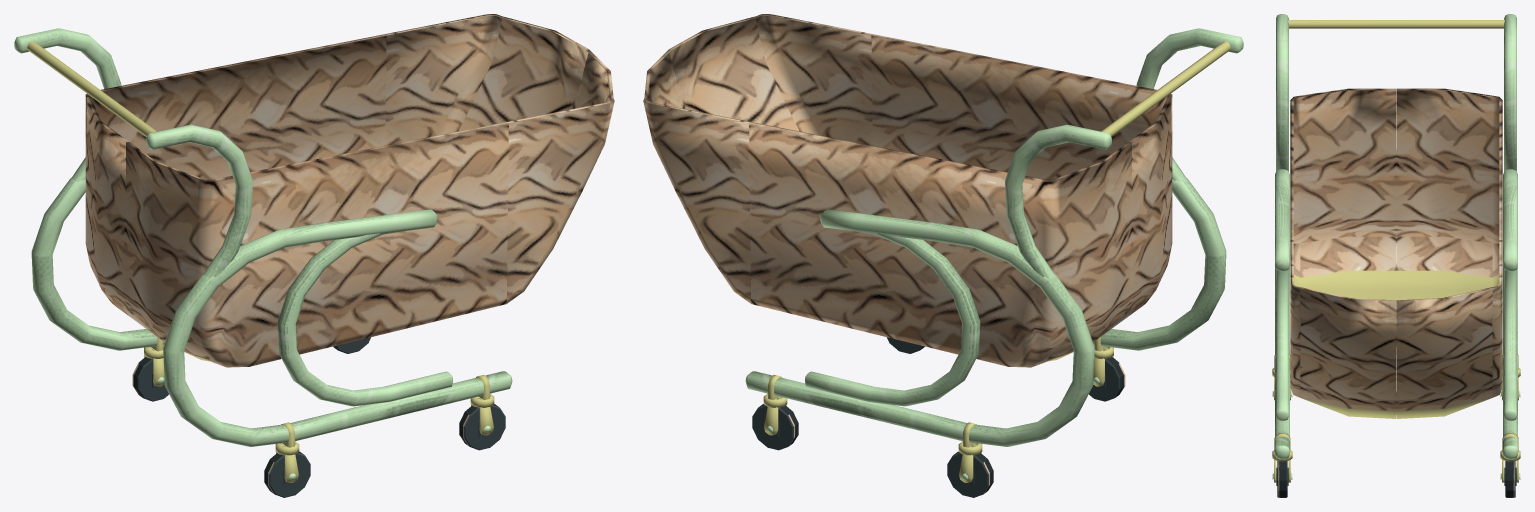
The model's file is shopping chart 3.0.fbx.
3 renders of one model, left to right at view 1: azimuth 30°, elevation 25°; view 2: azimuth 150°, elevation 25°; view 3: azimuth 270°, elevation 25°, orthographic. The views are drawn at different scales.
Visible parts, largest first — view 1: polySurface85.001, polySurface197.001, polySurface72; view 2: polySurface85.001, polySurface197.001, polySurface72; view 3: polySurface85.001, polySurface197.001, polySurface72.
Part boxes in pixels (<box>): polySurface85.001: <box>85,14,614,367</box>; polySurface197.001: <box>14,28,512,497</box>; polySurface72: <box>27,41,156,136</box>; polySurface85.001: <box>643,14,1172,367</box>; polySurface197.001: <box>745,28,1243,497</box>; polySurface72: <box>1101,41,1230,136</box>; polySurface85.001: <box>1290,88,1502,418</box>; polySurface197.001: <box>1272,14,1520,497</box>; polySurface72: <box>1288,20,1504,28</box>.
Size of the model in its own units: 135 by 100 by 66.13.
1 material, 1 textured.
